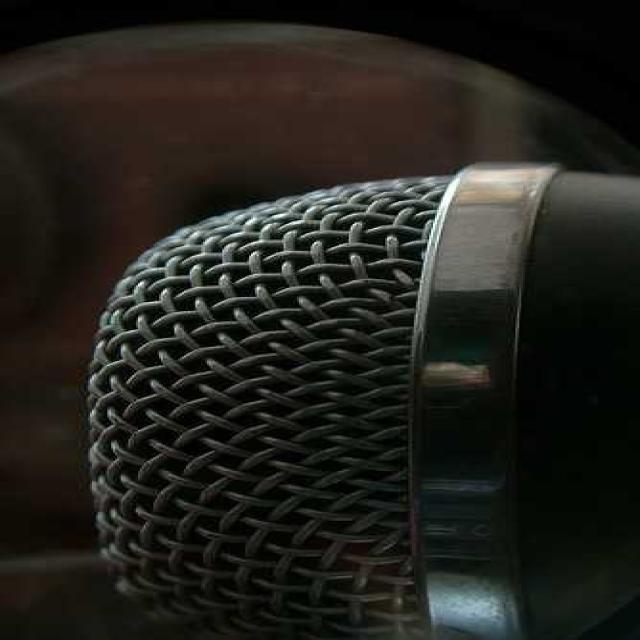microphone: (84, 163, 636, 633)
